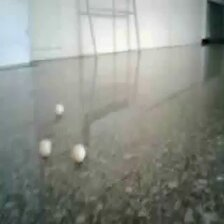tennis: (116, 88, 135, 113), (34, 74, 51, 96), (213, 138, 224, 169), (128, 65, 141, 81)
